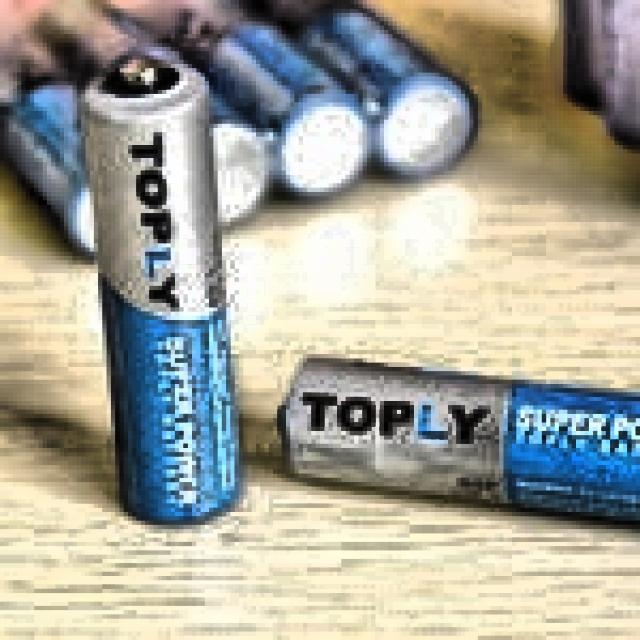Non-Valuable Waste - Batteries: (83, 59, 241, 522), (281, 359, 640, 521)
